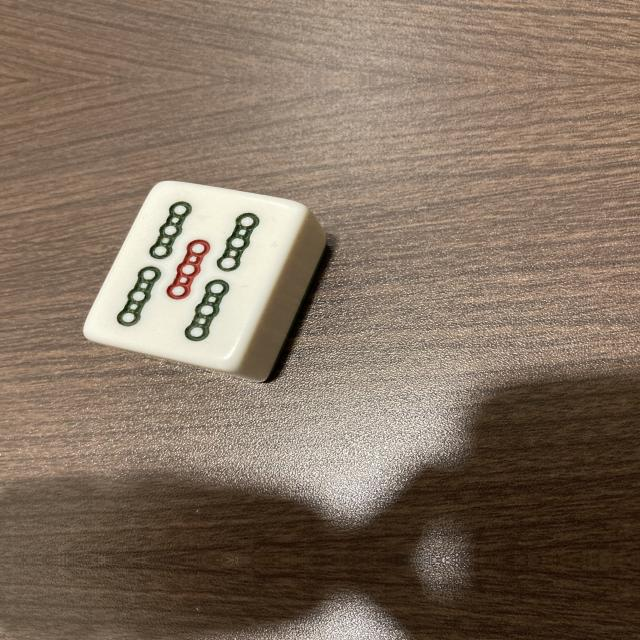s5: (84, 179, 305, 370)
